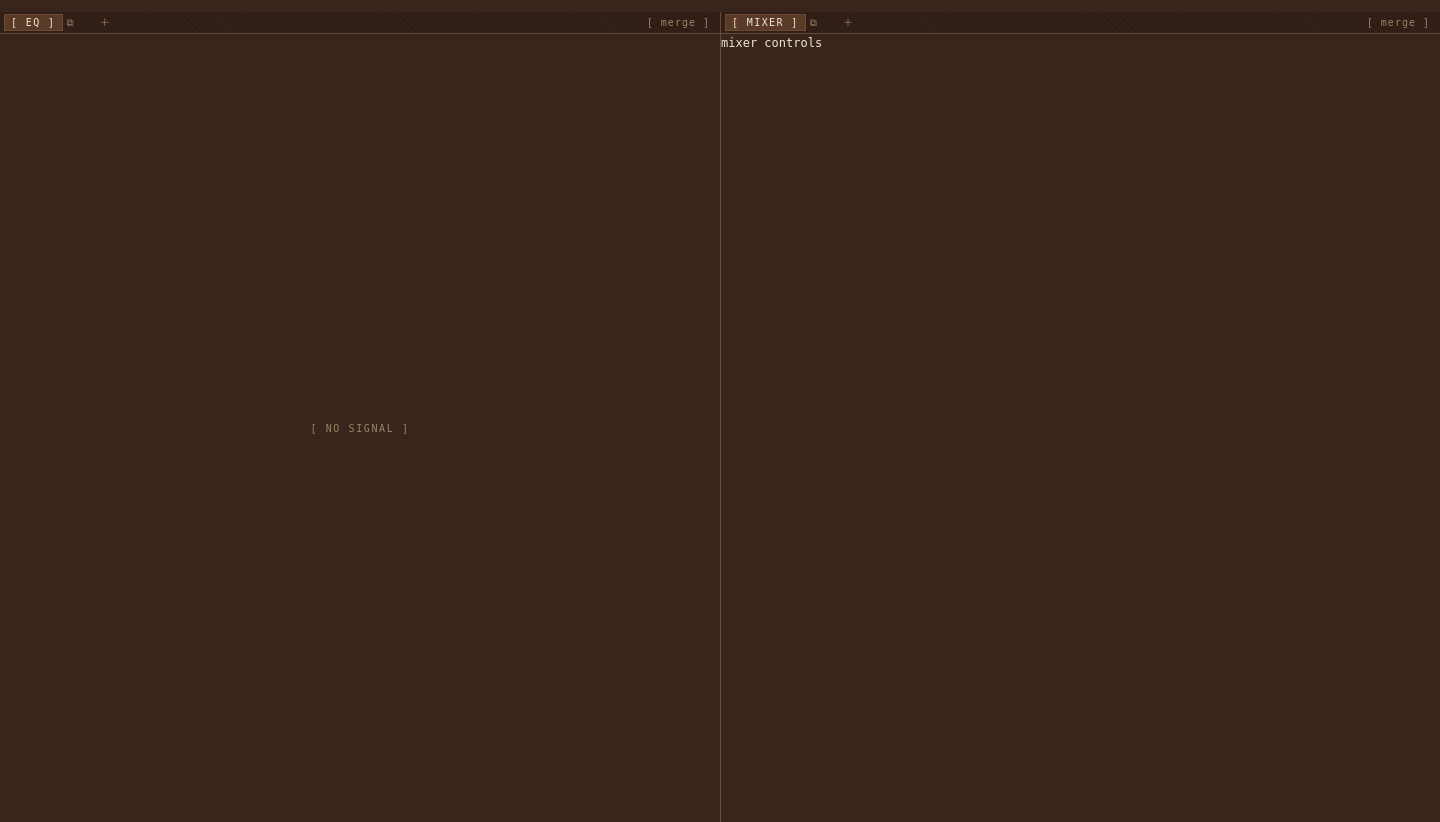
Test: PluginDock › lists only plugins that are not open anywhere
What coordinates should you click on to do the following:
click the 1st button titled "Add device"
I would click on:
 (105, 22)
Its box is [94,14,117,31].
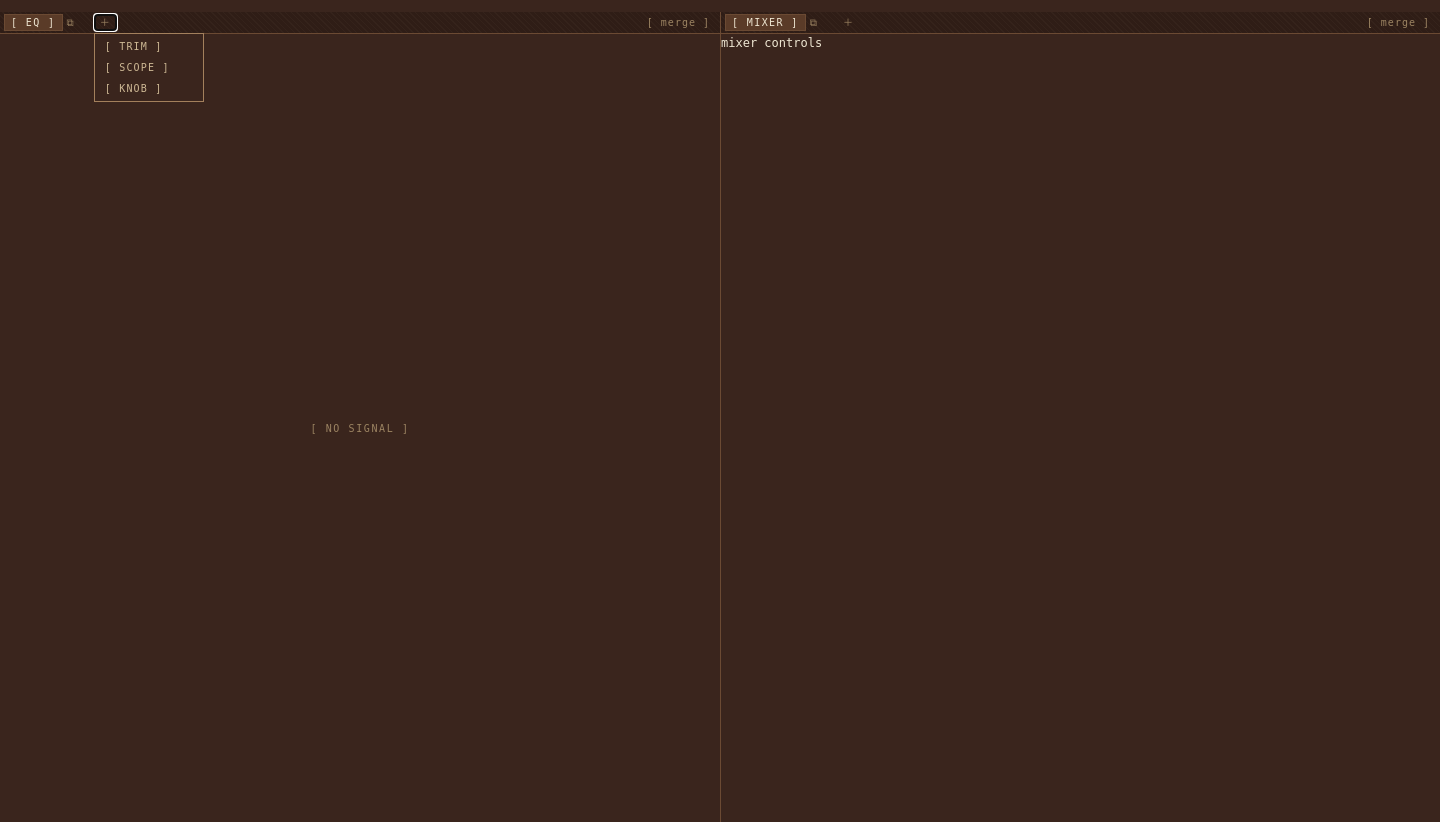
Result: the menu items read "[ TRIM ]", "[ SCOPE ]", "[ KNOB ]", in this order at [95,36,203,57]; [95,57,203,78]; [95,78,203,99]
